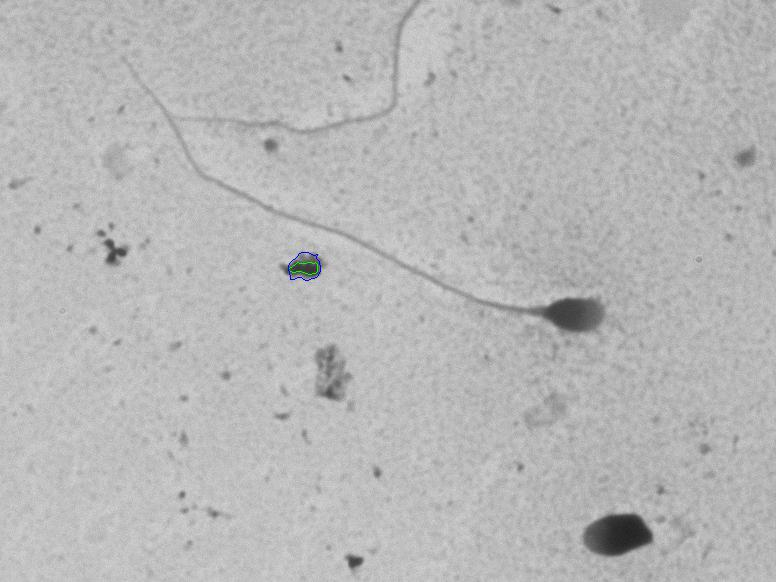Normal: (97, 45, 620, 358)
